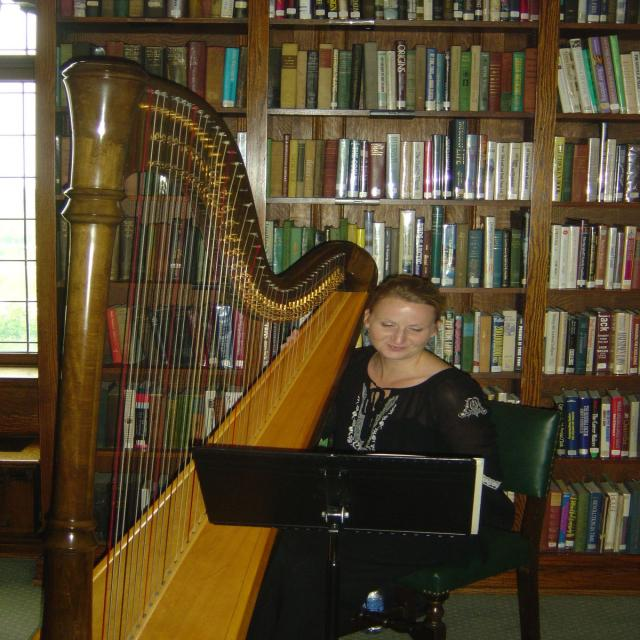harp: (29, 55, 382, 638)
